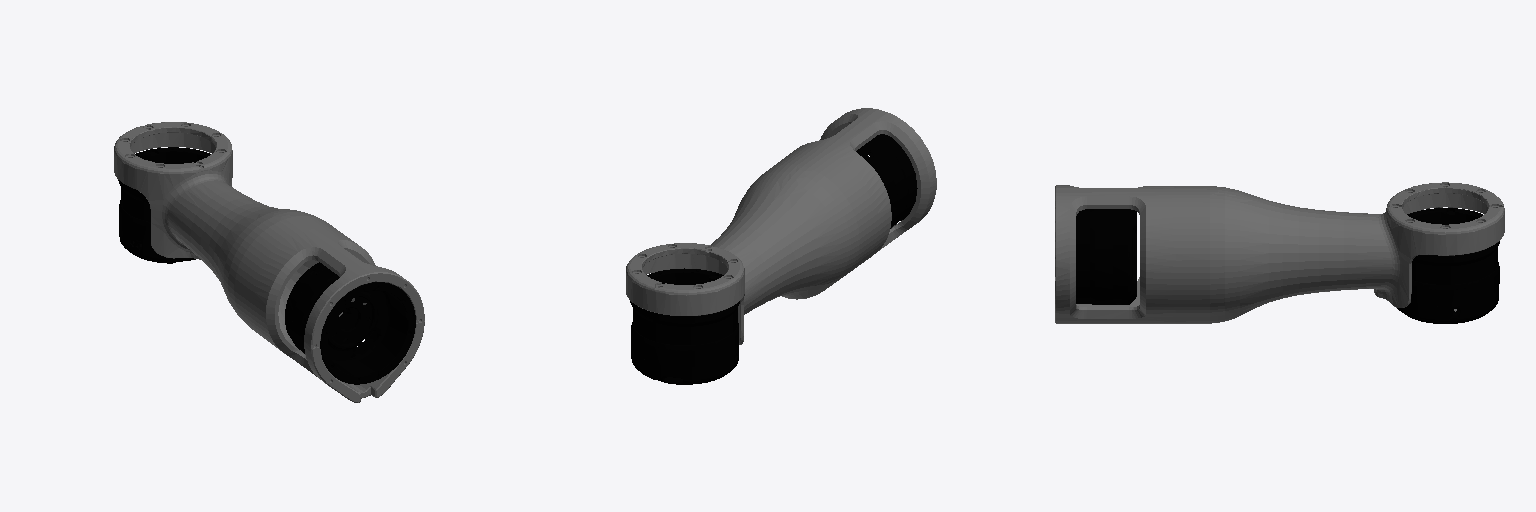
Rendered from left_upper_arm_yaw_link.obj.
3 views of the same model, side by side, from view 1: azimuth 30°, elevation 25°; view 2: azimuth 150°, elevation 25°; view 3: azimuth 270°, elevation 25° (orthographic).
Parts seen in each view (by area): view 1: left_upper_arm_yaw_link; view 2: left_upper_arm_yaw_link; view 3: left_upper_arm_yaw_link.
Boxes of the visible parts, x1=… form: left_upper_arm_yaw_link: x1=114, y1=122, x2=424, y2=402; left_upper_arm_yaw_link: x1=626, y1=108, x2=936, y2=384; left_upper_arm_yaw_link: x1=1055, y1=182, x2=1504, y2=323.
Bounding box in the file's own units: 0.062 × 0.0669 × 0.212.